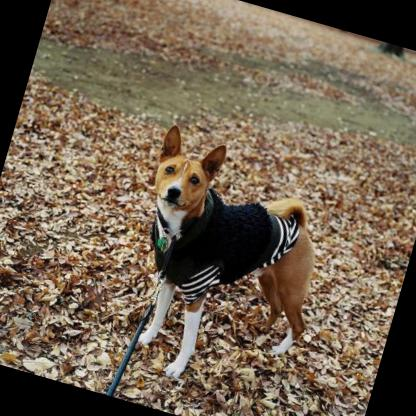basenji: (100, 122, 351, 410)
